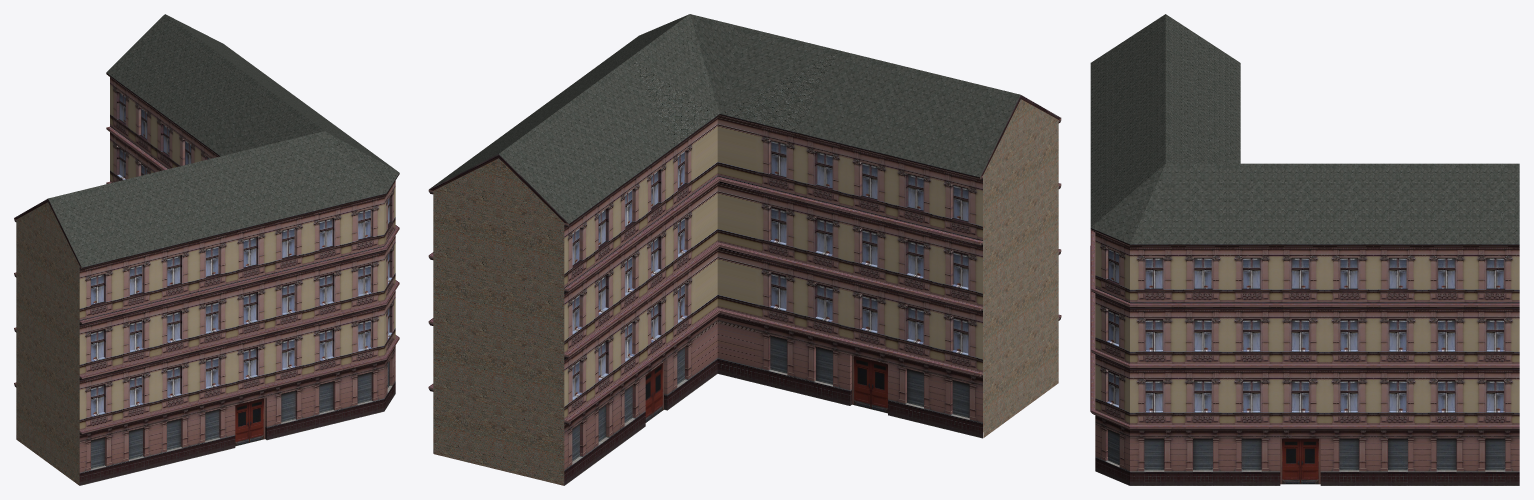
The model's file is PBP1_Corner3_2sided_2.fbx.
The picture shows the model from 3 angles, left to right: view 1: azimuth 30°, elevation 25°; view 2: azimuth 150°, elevation 25°; view 3: azimuth 270°, elevation 25°; orthographic projection. The views are drawn at different scales.
Visible parts, largest first — view 1: PBP1_Corner3_2sided_2; view 2: PBP1_Corner3_2sided_2; view 3: PBP1_Corner3_2sided_2.
Boxes of the visible parts, box(x1,y1,x2,y2) form: PBP1_Corner3_2sided_2: box(14, 14, 399, 485); PBP1_Corner3_2sided_2: box(428, 14, 1061, 485); PBP1_Corner3_2sided_2: box(1090, 14, 1519, 485).
Size of the model in its own units: 2139 by 2138 by 1609.
